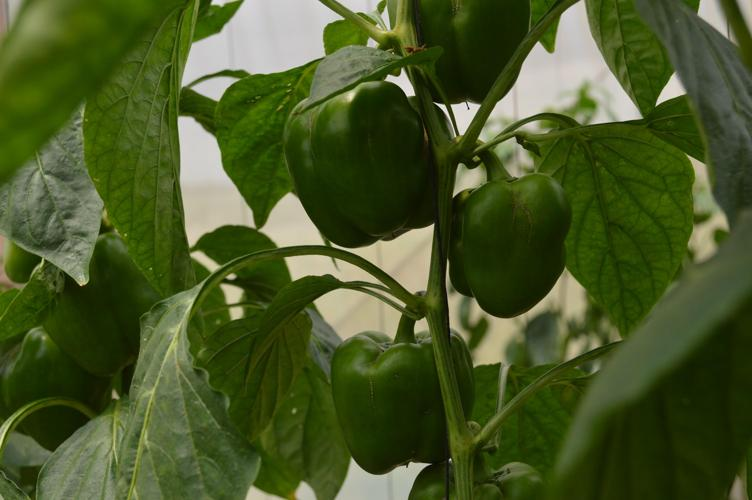BellPepper: (282, 82, 452, 257), (332, 332, 476, 470), (445, 170, 572, 322), (45, 234, 166, 376), (3, 331, 115, 441), (410, 6, 523, 102)
